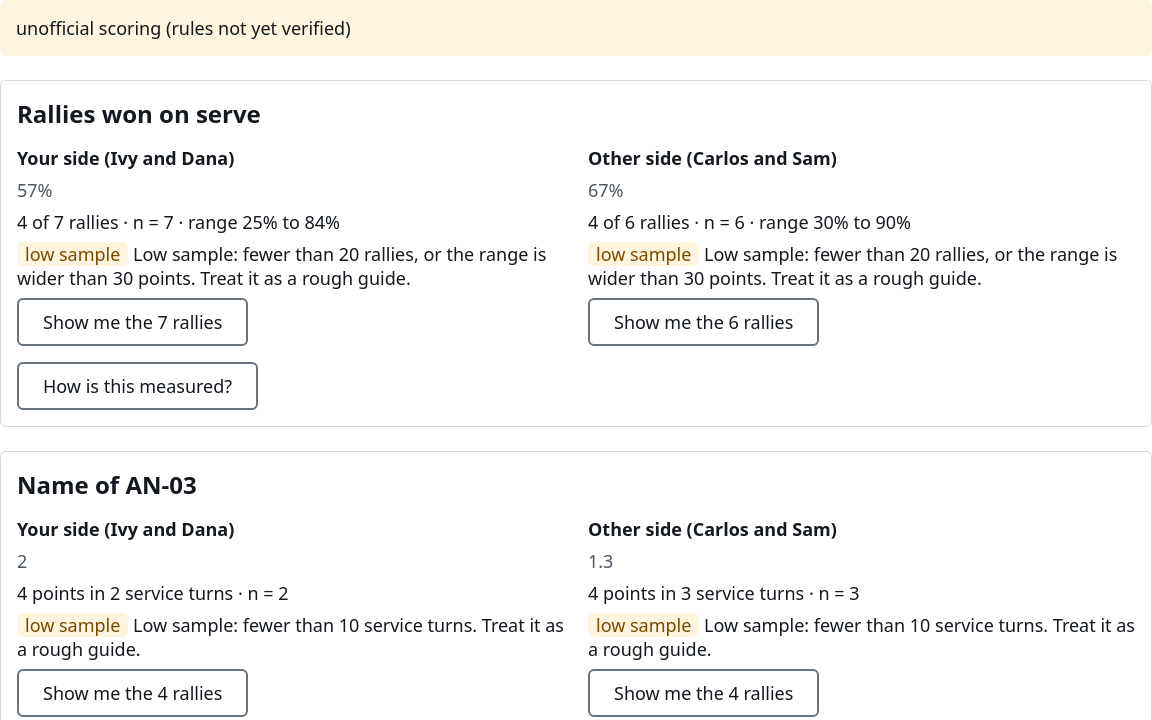
Test: E-01 "Show me" panel (ST-047; E2E-03-02, E2E-03-09) › loading: a busy region inside the panel, then the list
The width and height of the screenshot is (1152, 720).
Expected: the heading "Rallies won on serve" is shown, [17, 97, 261, 130]
Click the button "Show me the 7 rallies" at (133, 322), box [17, 298, 248, 346]
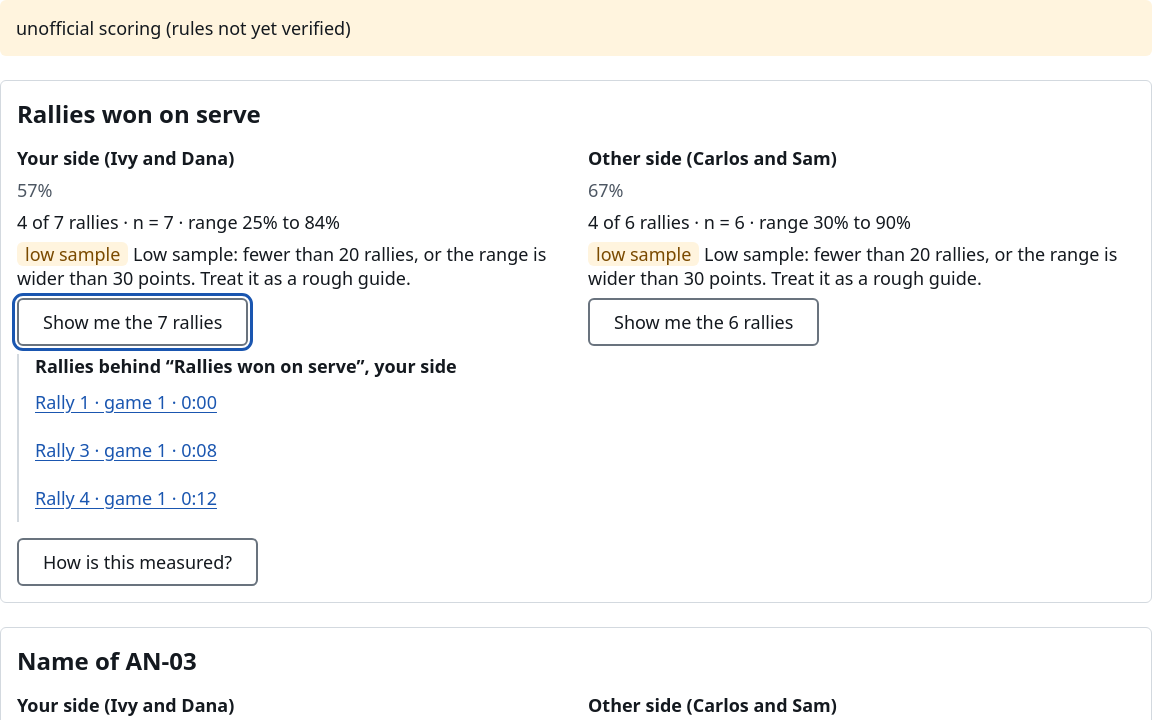
Result: the link "Rally 1 · game 1 · 0:00" is shown at [35, 390, 217, 414]
